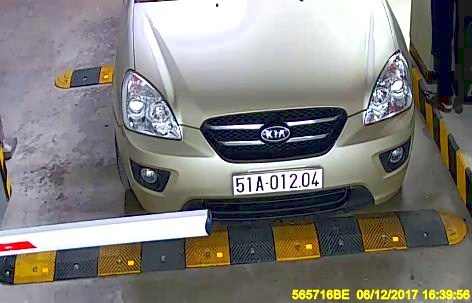plate: (229, 167, 326, 196)
